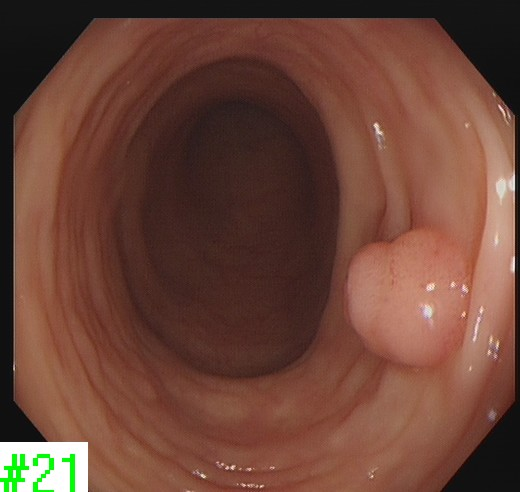adenoma: (344, 226, 471, 370)
